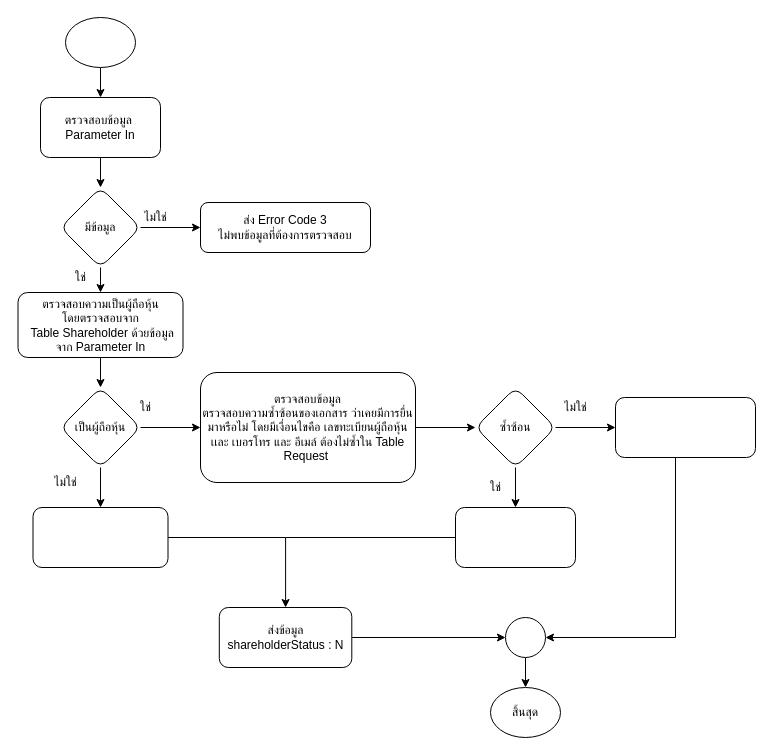
This 773x755 diagram has some shape labels left out. The centre of each missing label's shape, as x and y in pixels:
ส่ง Error Code 1 มีการใช้งานผู้ถือหุ้นนี้ในระบบ: point 515,537
ส่ง Error Code 2 ไม่พบข้อมูลผู้ถือหุ้นนี้ในระบบ: point 100,537
ส่งข้อมูล shareholderStatus : Y: point 685,427
เริ่มต้น: point 100,42
